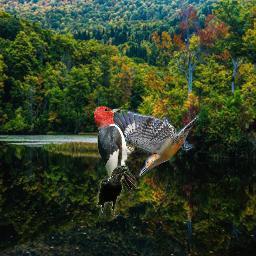Crow: (96, 164, 129, 218)
Woodpecker: (107, 109, 199, 177), (94, 105, 138, 192)
